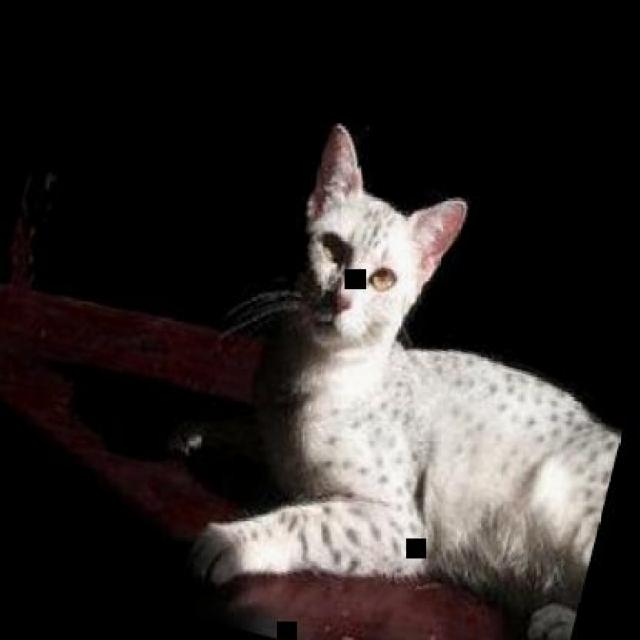cat: (140, 99, 638, 638)
